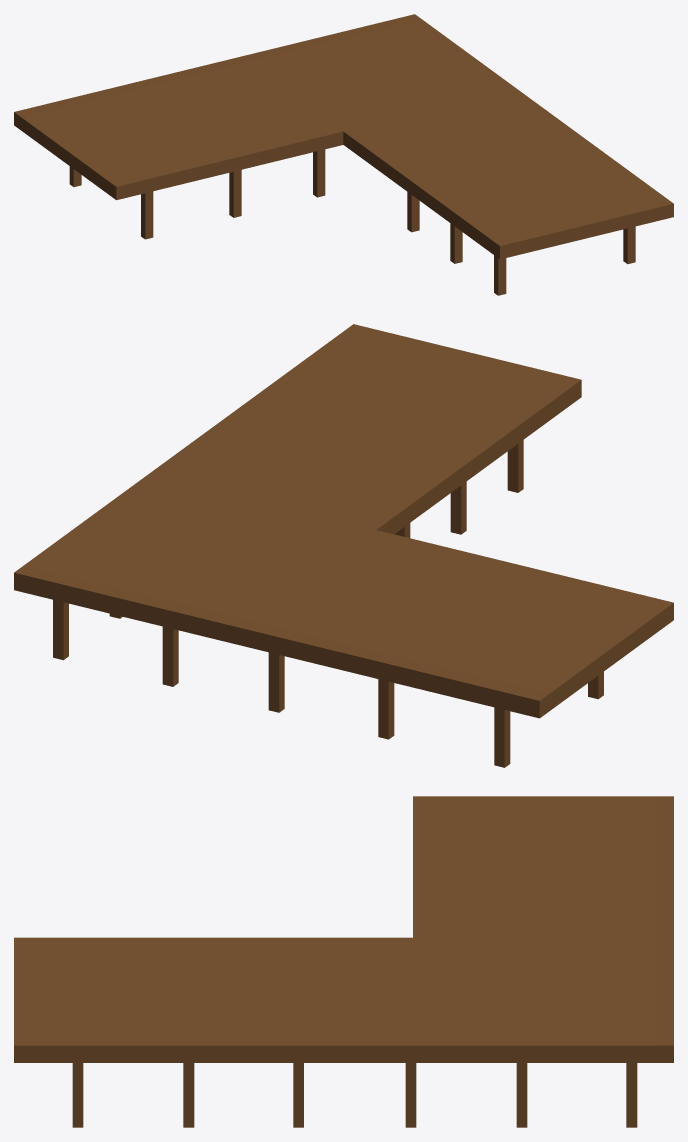
Rendered from Dock.FBX.
3 views of the same model, one above another, from view 1: azimuth 30°, elevation 25°; view 2: azimuth 150°, elevation 25°; view 3: azimuth 270°, elevation 25° (orthographic). The views are drawn at different scales.
Visible parts, largest first — view 1: Box001; view 2: Box001; view 3: Box001.
Boxes of the visible parts, box(x1,y1,x2,y2) form: Box001: box(14, 14, 673, 295); Box001: box(14, 324, 673, 767); Box001: box(14, 796, 673, 1127).
Bounding box in the file's own units: 15.28 × 2.61 × 17.1.
